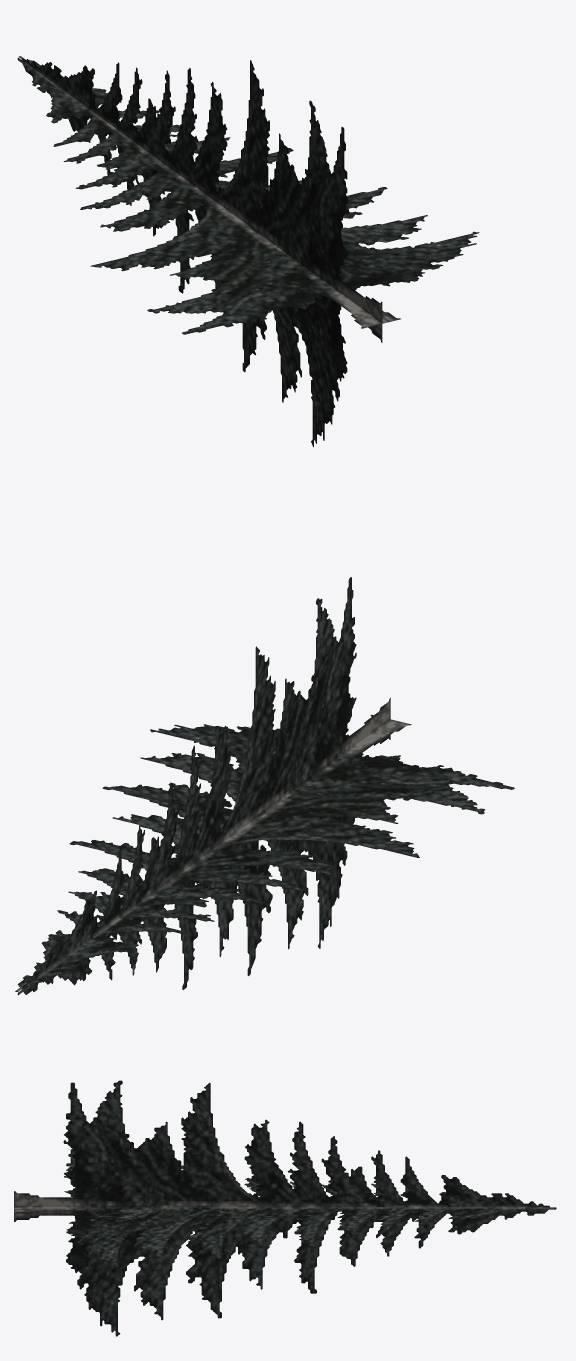
Rendered from SM_EC_Tree_Cross_05.fbx.
The picture shows the model from 3 angles, top to bottom: view 1: azimuth 30°, elevation 25°; view 2: azimuth 150°, elevation 25°; view 3: azimuth 270°, elevation 25°; orthographic projection. The views are drawn at different scales.
Parts seen in each view (by area): view 1: SM_EC_Tree_Cross_05; view 2: SM_EC_Tree_Cross_05; view 3: SM_EC_Tree_Cross_05.
Boxes of the visible parts, x1,y1,x2,y2 form: SM_EC_Tree_Cross_05: (17,56,479,446); SM_EC_Tree_Cross_05: (15,577,514,995); SM_EC_Tree_Cross_05: (14,1080,556,1336).
Bounding box in the file's own units: 2.06 × 3.79 × 2.06.
